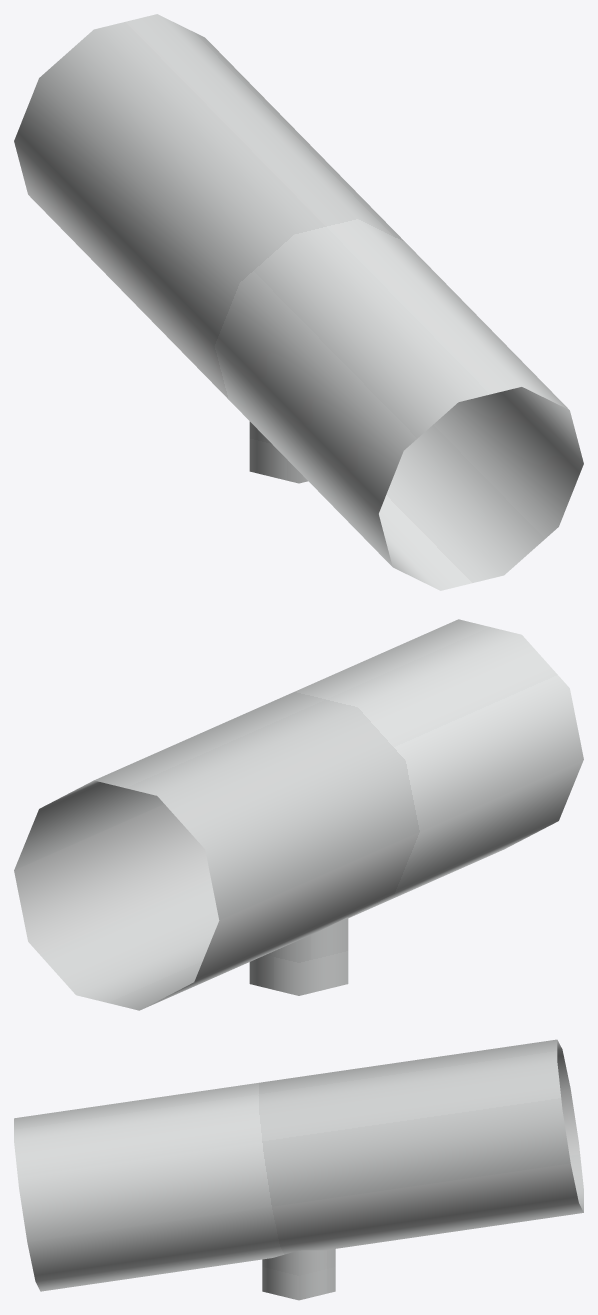
The model's file is trusssignalarm_sloped12_c9.obj.
The picture shows the model from 3 angles, top to bottom: view 1: azimuth 30°, elevation 25°; view 2: azimuth 150°, elevation 25°; view 3: azimuth 270°, elevation 25°; orthographic projection. The views are drawn at different scales.
Parts seen in each view (by area): view 1: trusssignalarm_sloped12_c9; view 2: trusssignalarm_sloped12_c9; view 3: trusssignalarm_sloped12_c9.
Part boxes in pixels (x1=…): trusssignalarm_sloped12_c9: x1=14, y1=14, x2=583, y2=590; trusssignalarm_sloped12_c9: x1=14, y1=619, x2=583, y2=1010; trusssignalarm_sloped12_c9: x1=14, y1=1039, x2=583, y2=1300.
Bounding box in the file's own units: 0.325 × 0.4701 × 1.05.
